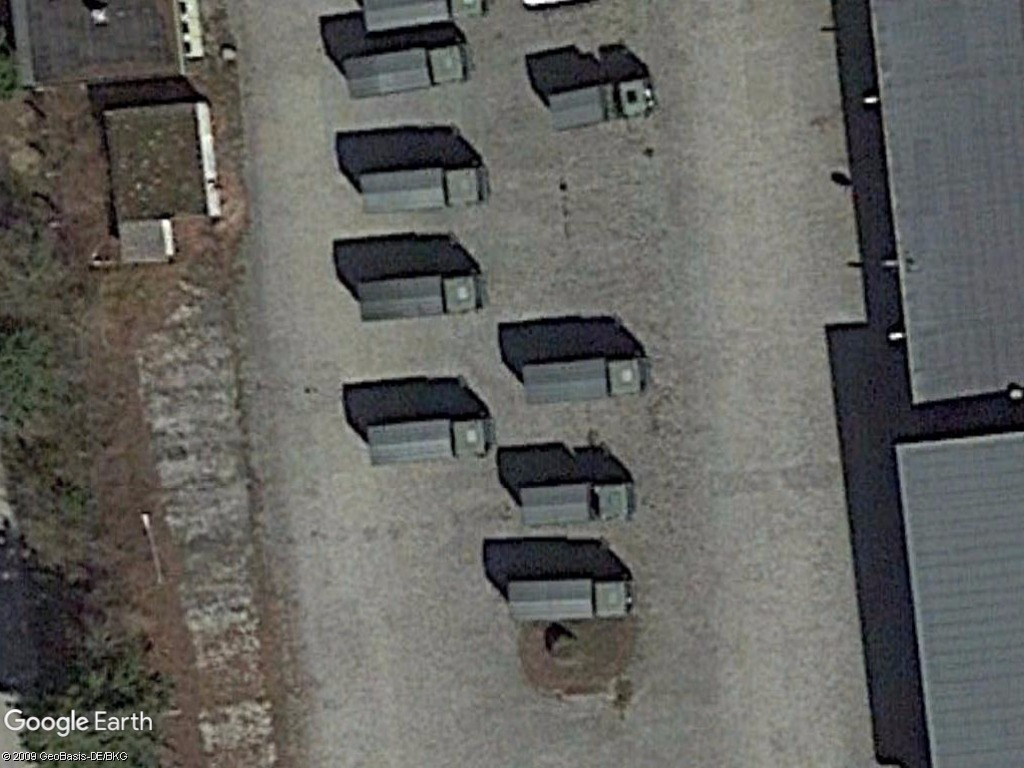truck: (339, 38, 473, 108), (517, 354, 659, 413), (354, 269, 491, 329), (353, 162, 488, 222), (360, 414, 496, 473), (503, 575, 639, 629), (512, 478, 640, 535), (545, 73, 659, 136)
